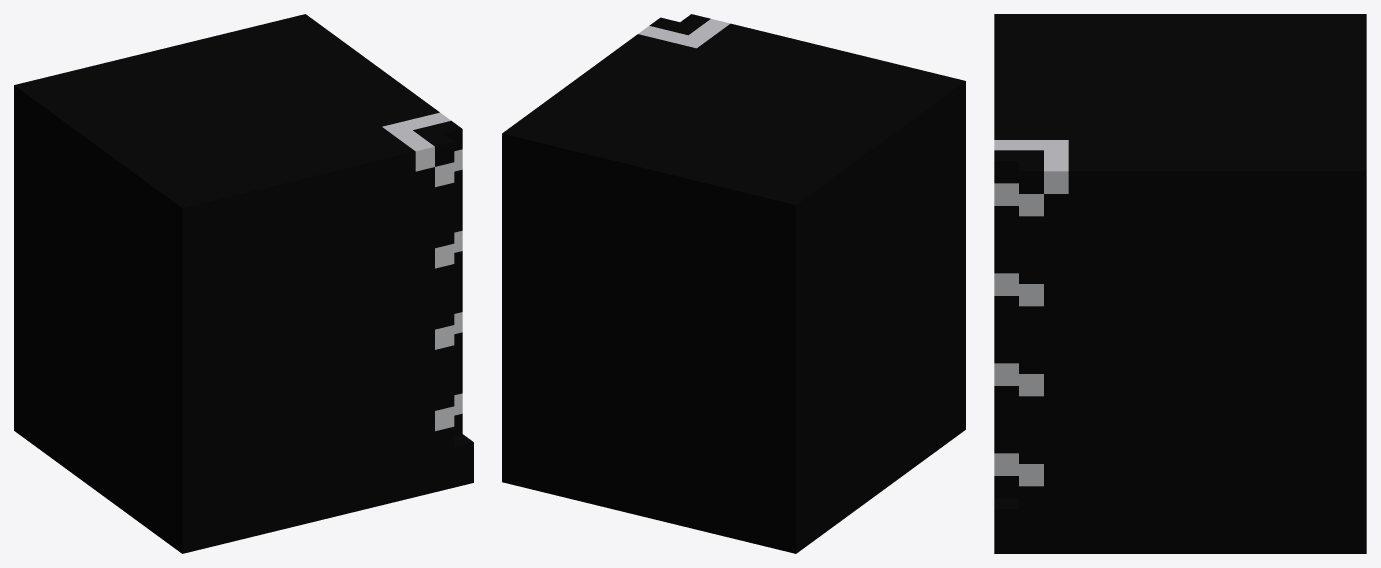
The model's file is dungeon_d_a_outer_wall_corner_c.obj.
3 views of the same model, side by side, from view 1: azimuth 30°, elevation 25°; view 2: azimuth 150°, elevation 25°; view 3: azimuth 270°, elevation 25° (orthographic). The views are drawn at different scales.
Size of the model in its own units: 1.5 by 1.7 by 1.5.
1 material, 1 textured.
